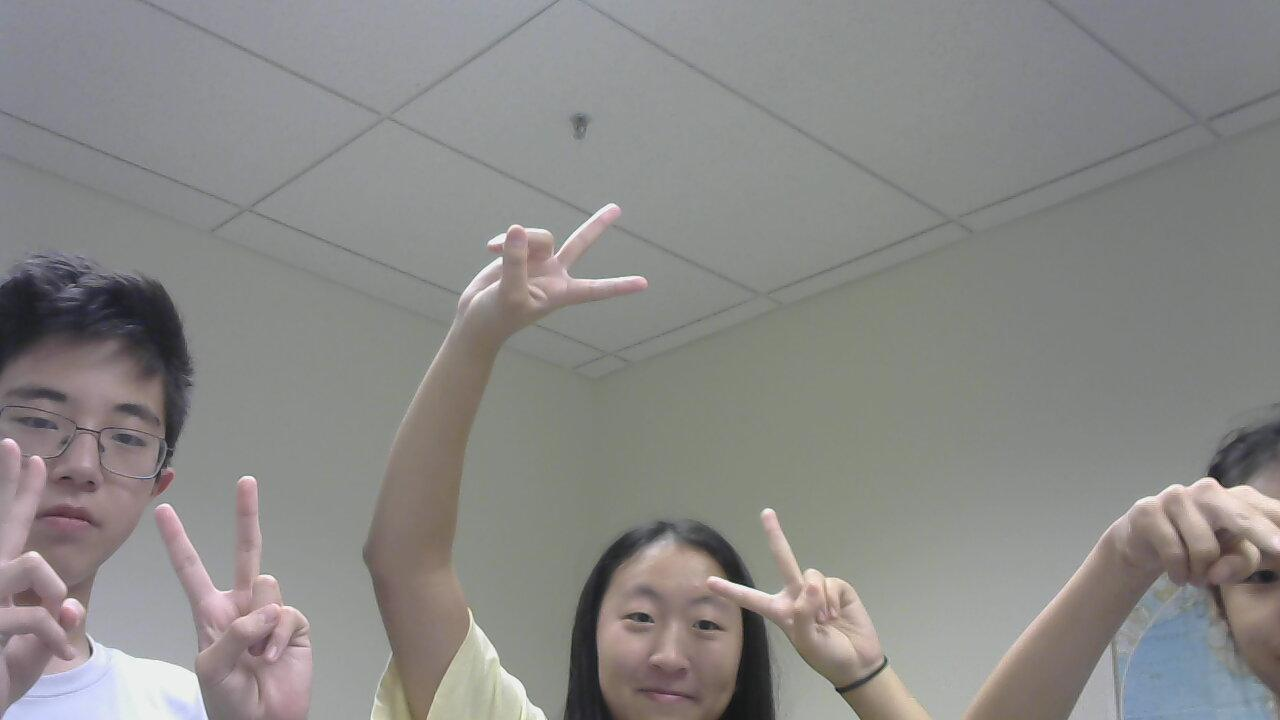peace: (151, 472, 342, 719), (701, 499, 905, 689), (446, 197, 670, 358), (3, 432, 94, 720)
